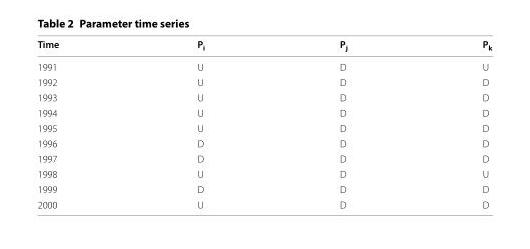table: (36, 37, 491, 210)
table column: (127, 37, 271, 210), (271, 37, 414, 210), (36, 37, 127, 210), (414, 37, 491, 210)
table column header: (36, 37, 491, 56)
table row: (36, 37, 491, 56), (36, 56, 491, 74), (36, 104, 491, 120), (36, 165, 491, 181), (36, 74, 491, 89), (36, 89, 491, 104), (36, 120, 491, 135), (36, 135, 491, 150), (36, 150, 491, 165), (36, 181, 491, 196), (36, 196, 491, 210)
